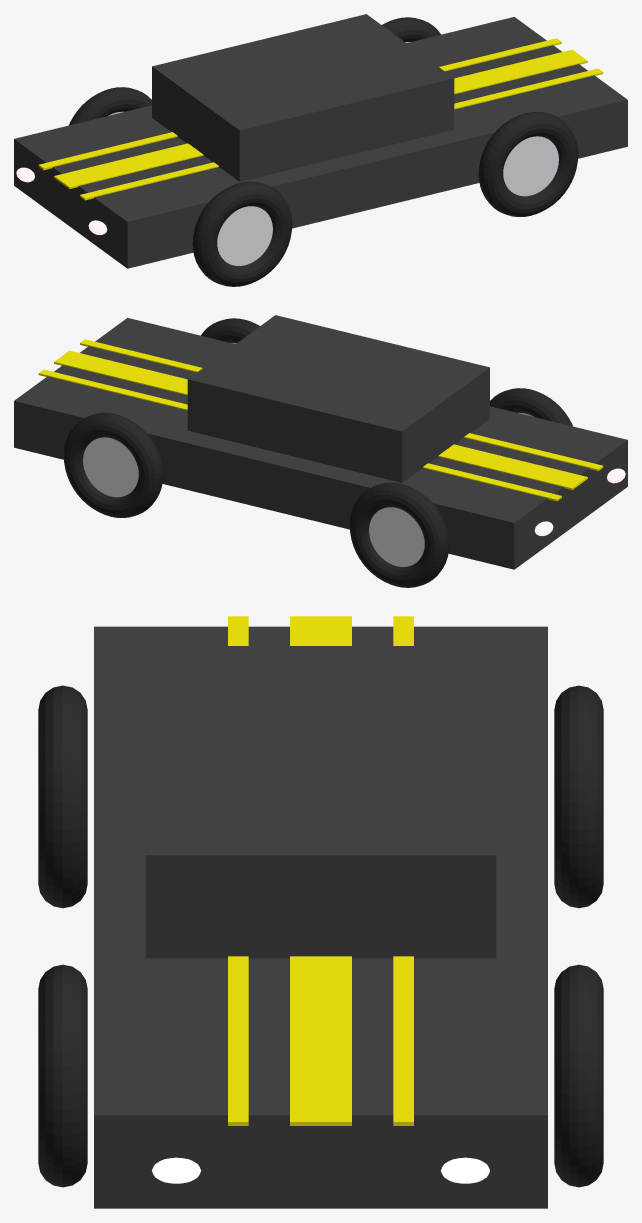
The picture shows the model from 3 angles, top to bottom: view 1: azimuth 30°, elevation 25°; view 2: azimuth 150°, elevation 25°; view 3: azimuth 270°, elevation 25°; orthographic projection. The views are drawn at different scales.
Visible parts, largest first — view 1: SportsRacingCar; view 2: SportsRacingCar; view 3: SportsRacingCar.
Part boxes in pixels (x1=…): SportsRacingCar: x1=14, y1=14, x2=627, y2=286; SportsRacingCar: x1=14, y1=315, x2=627, y2=587; SportsRacingCar: x1=38, y1=616, x2=603, y2=1208.
Bounding box in the file's own units: 5.96 × 1.44 × 2.74.
